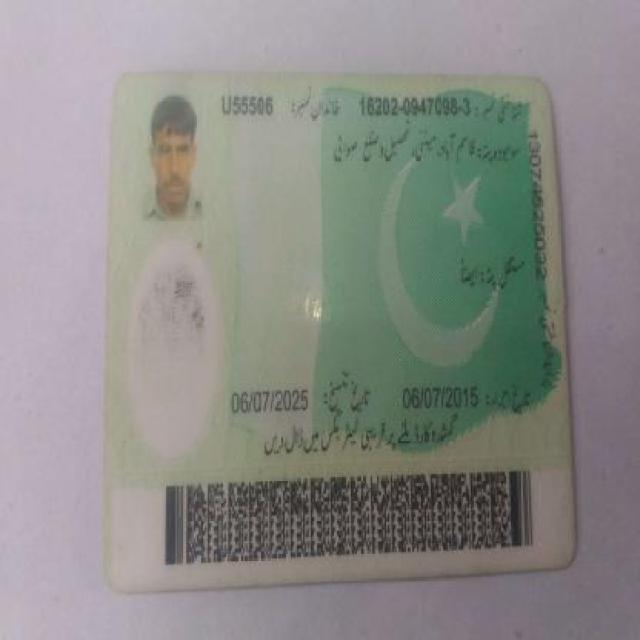Back: (100, 64, 580, 582)
